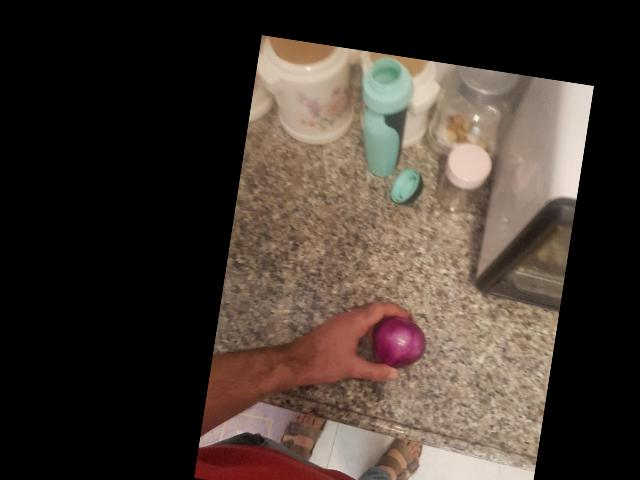onion: (490, 202, 554, 257)
